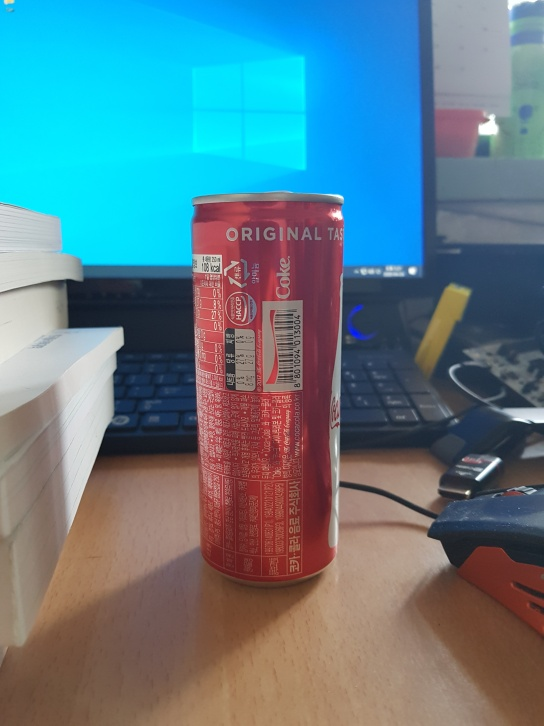Can: (188, 189, 348, 591)
